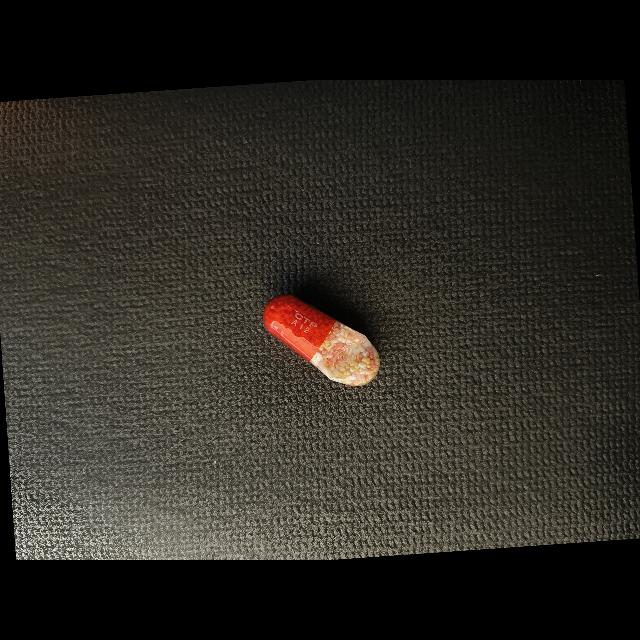Defective Capsule: (263, 295, 380, 386)
